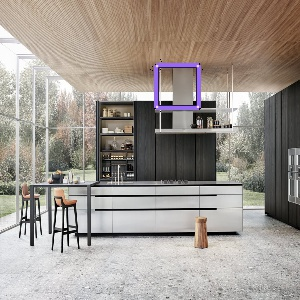square: (150, 60, 203, 112)
